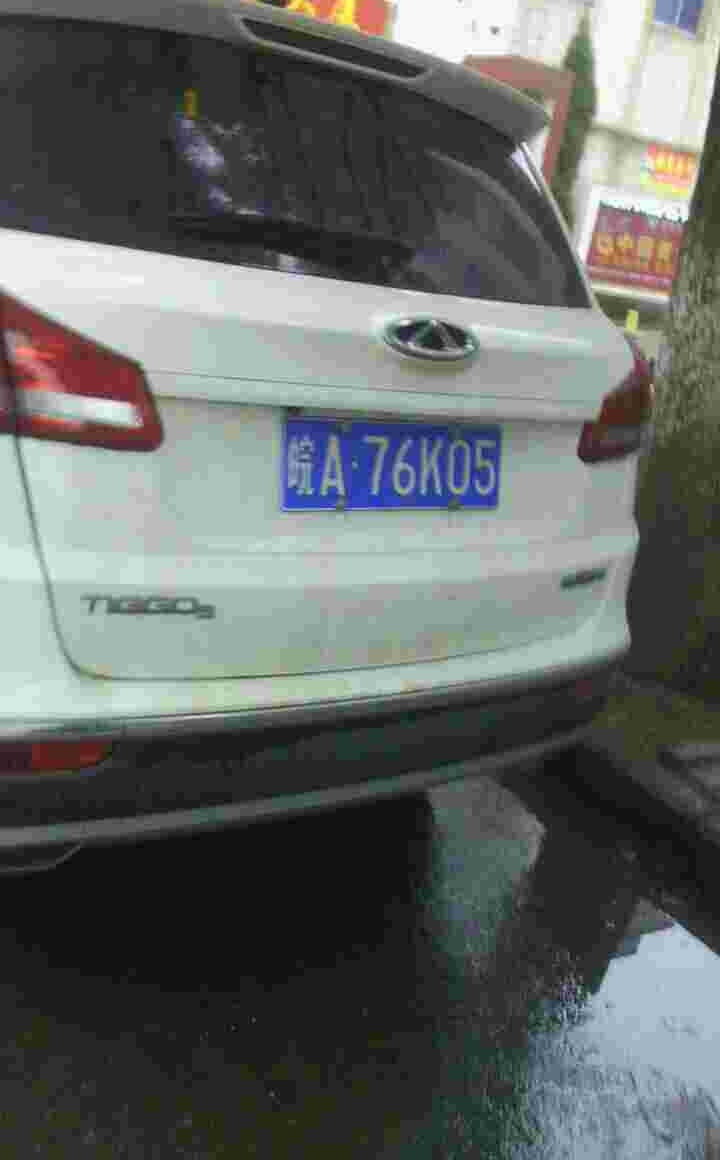plate: (287, 415, 512, 516)
